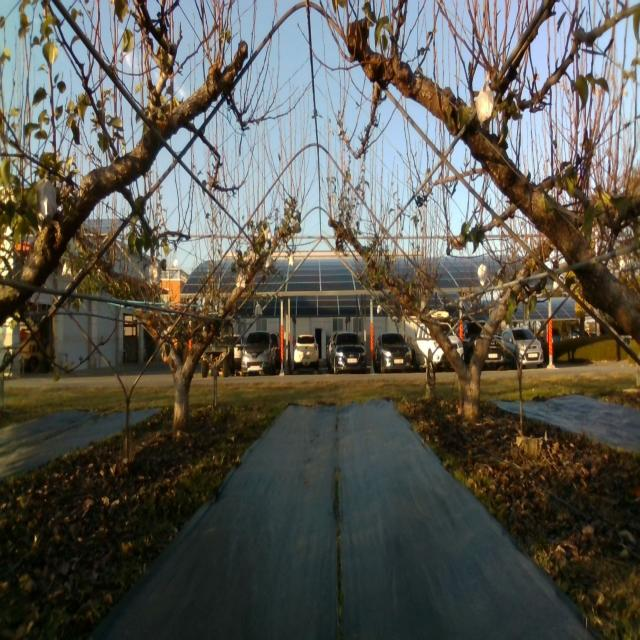pearbags: (475, 83, 494, 131), (36, 179, 56, 218), (148, 259, 160, 285), (478, 263, 488, 288)
